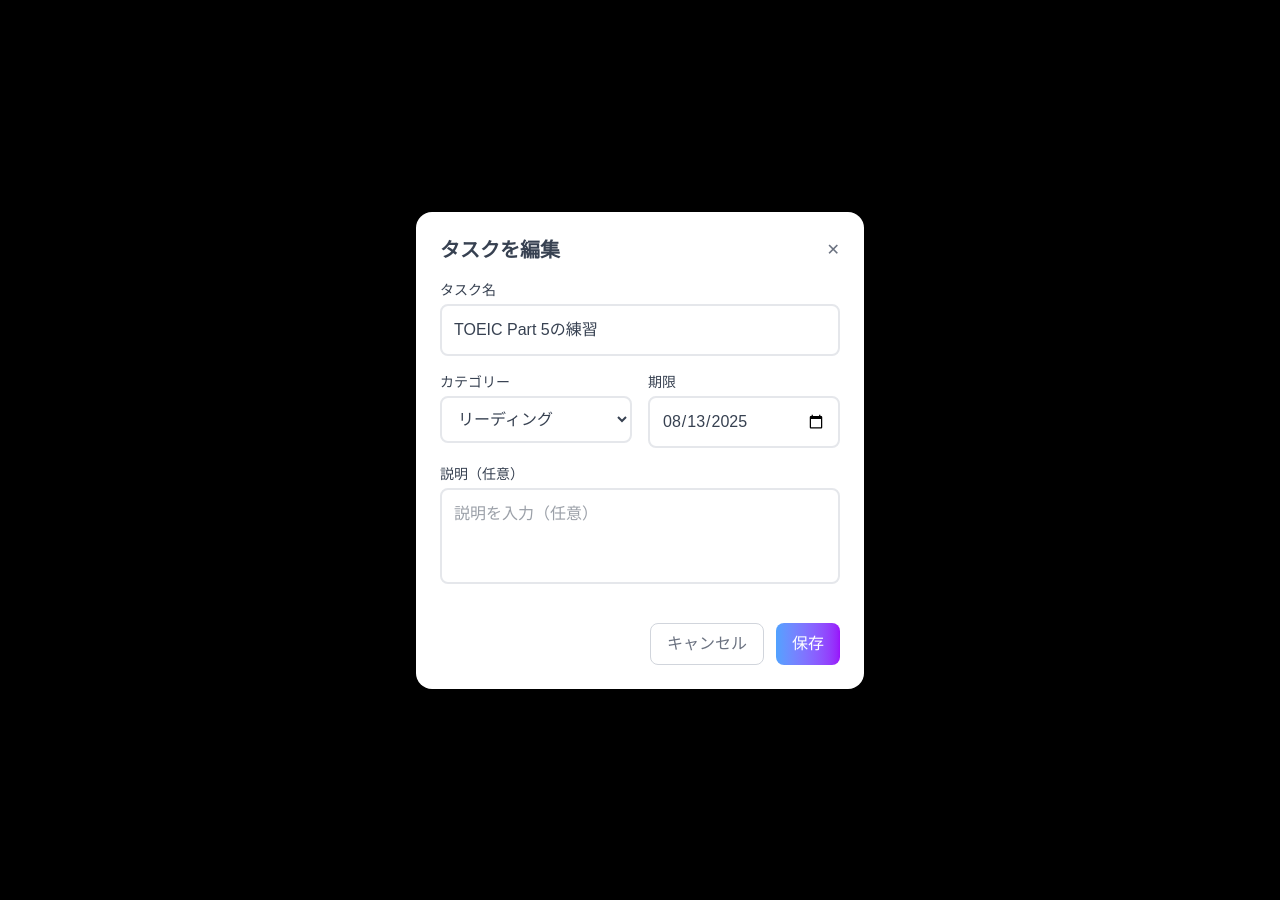
タスク編集機能 › 期限が空の場合にエラーが表示されること
Clear the date field showing "2025-08-13": (744, 422) [648, 396, 840, 448]
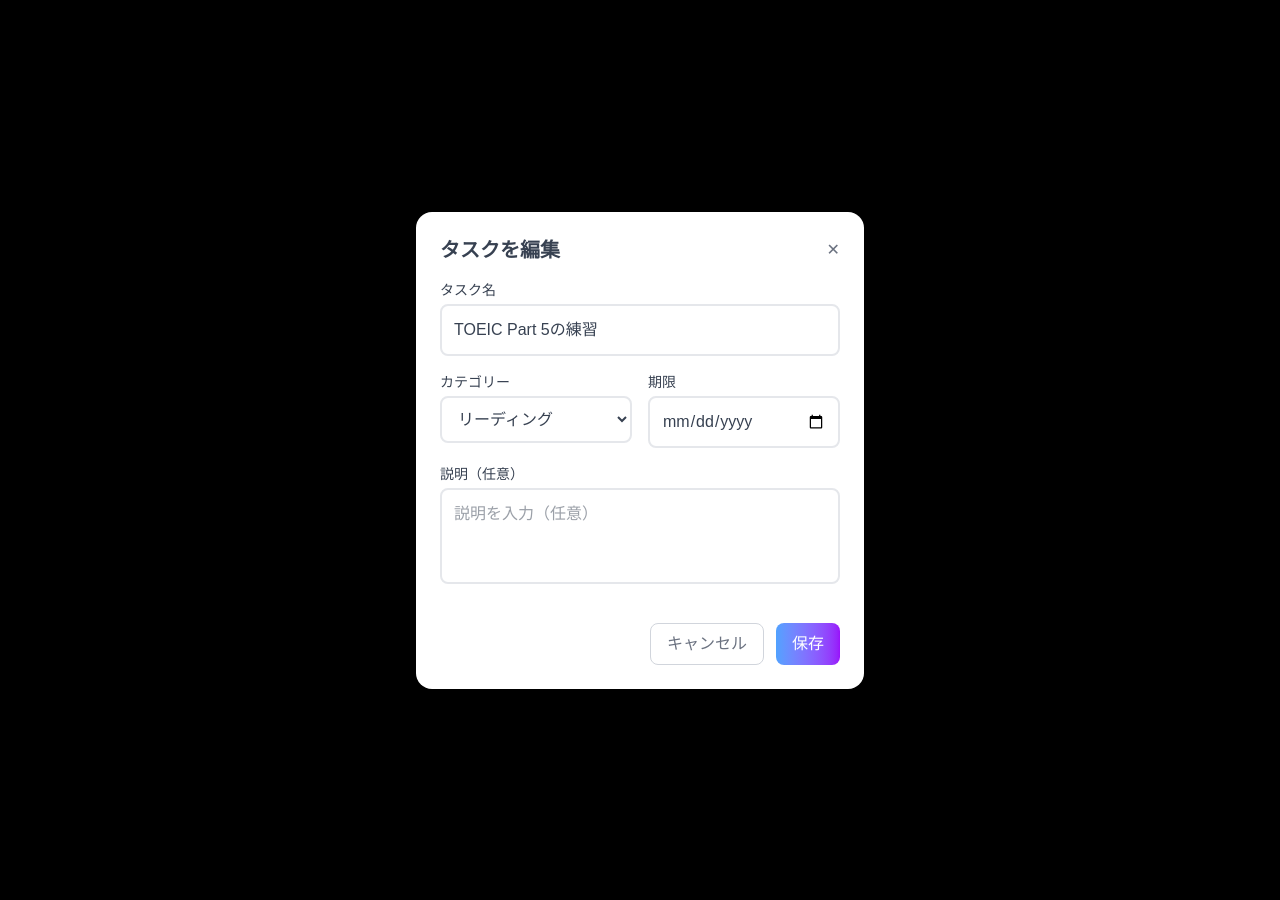
Click the button "保存": (808, 644) [776, 622, 840, 664]
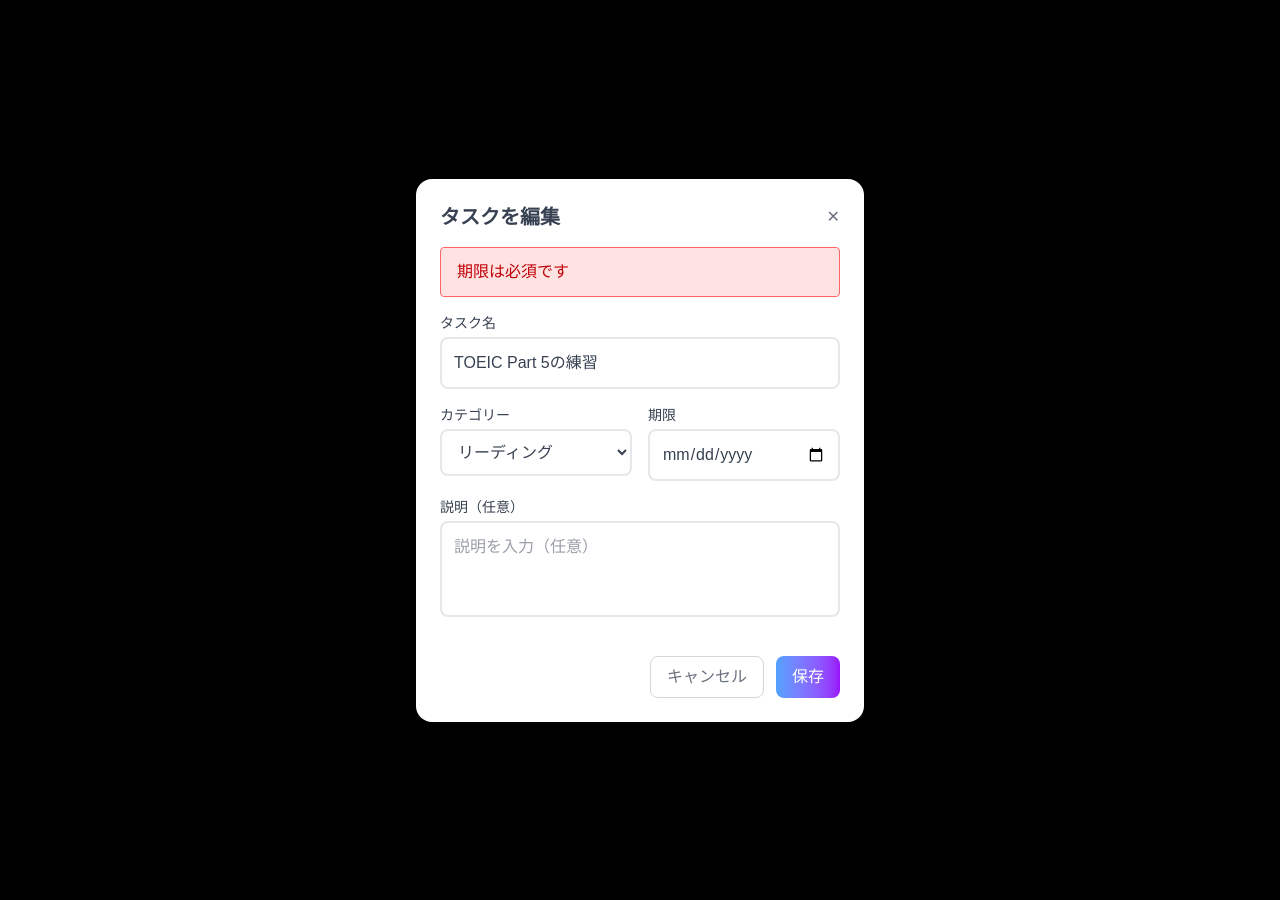
Check: the message reads "期限は必須です", box [457, 262, 569, 280]
